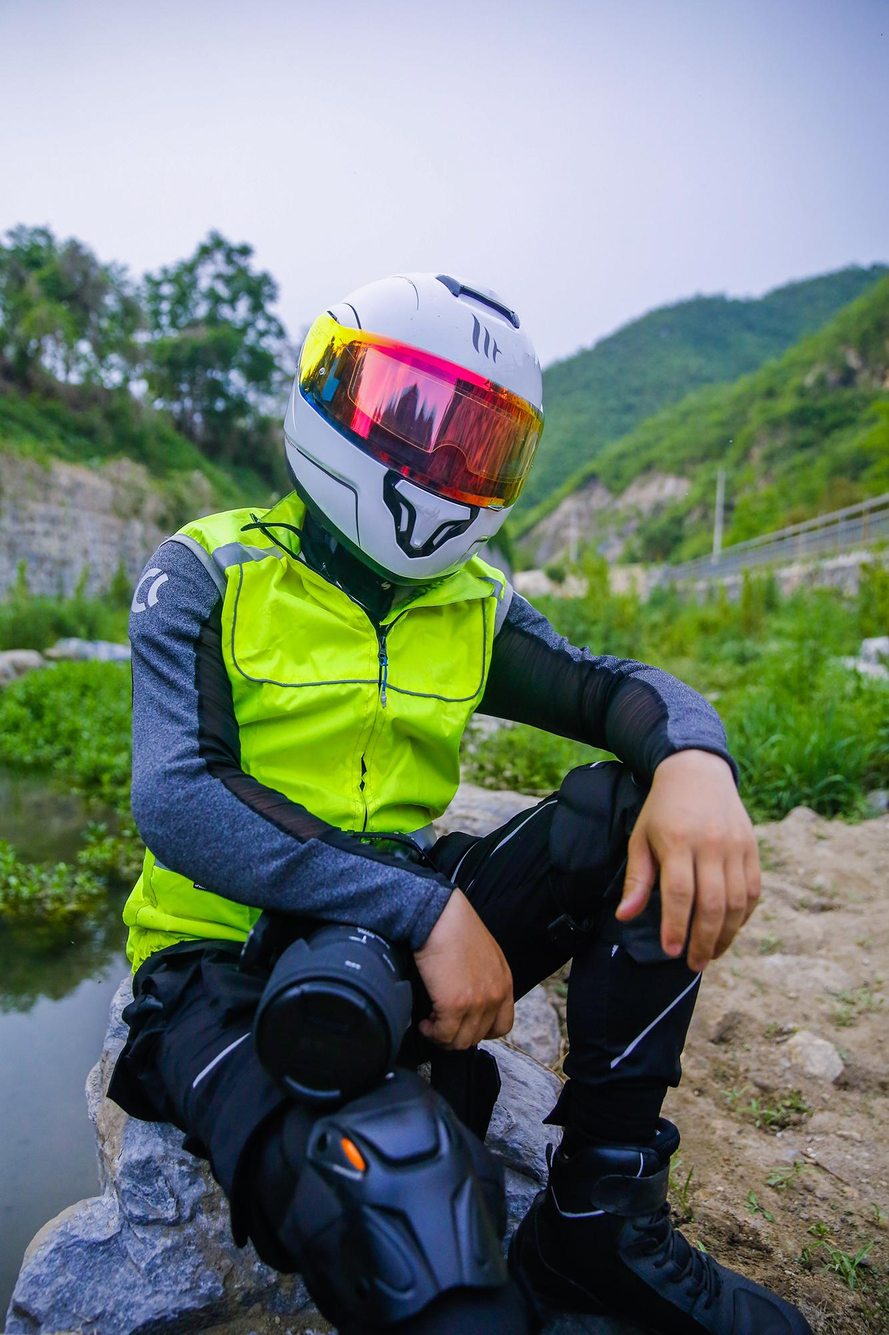helmet: (282, 270, 546, 588)
